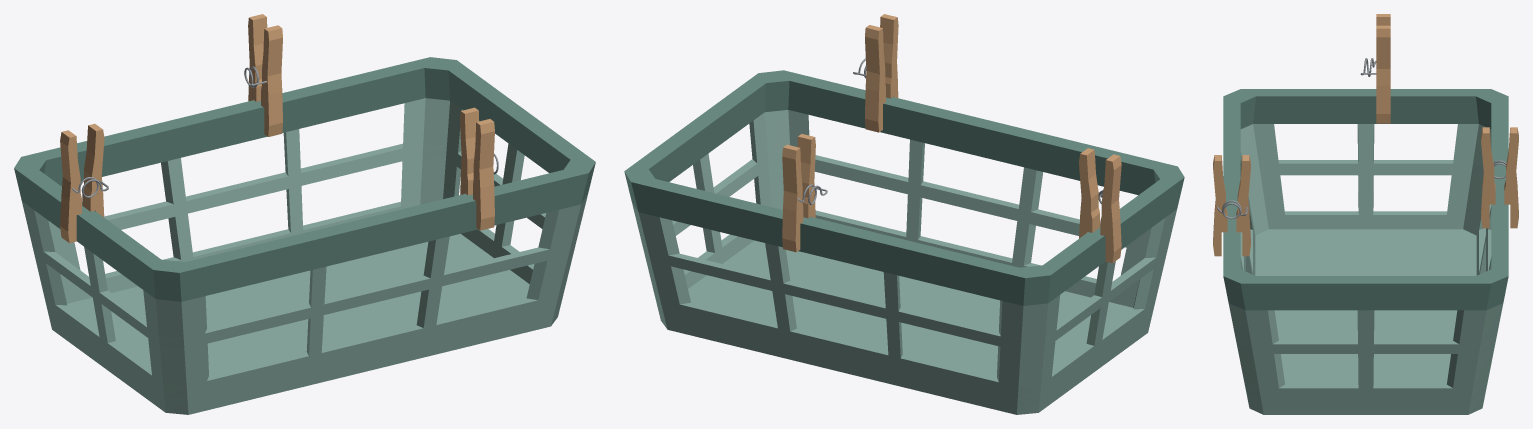
3 renders of one model, left to right at view 1: azimuth 30°, elevation 25°; view 2: azimuth 150°, elevation 25°; view 3: azimuth 270°, elevation 25°, orthographic. The views are drawn at different scales.
Visible parts, largest first — view 1: Basket_IntegralFloor_20TrueWindows_ContinuousRim, Clip_Front_LeftJaw, Clip_Back_RightJaw, Clip_Left_LeftJaw, Clip_Left_RightJaw, Clip_Front_RightJaw, Clip_Back_LeftJaw; view 2: Basket_IntegralFloor_20TrueWindows_ContinuousRim, Clip_Back_LeftJaw, Clip_Front_RightJaw, Clip_Left_LeftJaw, Clip_Left_RightJaw, Clip_Front_LeftJaw, Clip_Back_RightJaw; view 3: Basket_IntegralFloor_20TrueWindows_ContinuousRim, Clip_Left_RightJaw, Clip_Back_RightJaw, Clip_Back_LeftJaw, Clip_Front_RightJaw, Clip_Front_LeftJaw.
Part boxes in pixels (box(x1,y1,x2,y2)): Basket_IntegralFloor_20TrueWindows_ContinuousRim: box(14, 57, 595, 414); Clip_Front_LeftJaw: box(473, 119, 494, 230); Clip_Back_RightJaw: box(261, 25, 282, 136); Clip_Left_LeftJaw: box(60, 130, 81, 243); Clip_Left_RightJaw: box(82, 123, 104, 217); Clip_Front_RightJaw: box(460, 107, 479, 195); Clip_Back_LeftJaw: box(248, 14, 267, 101); Basket_IntegralFloor_20TrueWindows_ContinuousRim: box(624, 70, 1184, 414); Clip_Back_LeftJaw: box(782, 144, 803, 252); Clip_Front_RightJaw: box(865, 25, 885, 132); Clip_Left_LeftJaw: box(1100, 154, 1121, 263); Clip_Left_RightJaw: box(1079, 148, 1099, 238); Clip_Front_LeftJaw: box(880, 14, 898, 98); Clip_Back_RightJaw: box(797, 134, 815, 218); Basket_IntegralFloor_20TrueWindows_ContinuousRim: box(1223, 89, 1508, 414); Clip_Left_RightJaw: box(1376, 25, 1390, 123); Clip_Back_RightJaw: box(1481, 127, 1495, 228); Clip_Back_LeftJaw: box(1504, 127, 1518, 228); Clip_Front_RightJaw: box(1236, 155, 1250, 256); Clip_Front_LeftJaw: box(1213, 155, 1227, 256).
Bounding box in the file's own units: 0.323 × 0.162 × 0.21.
